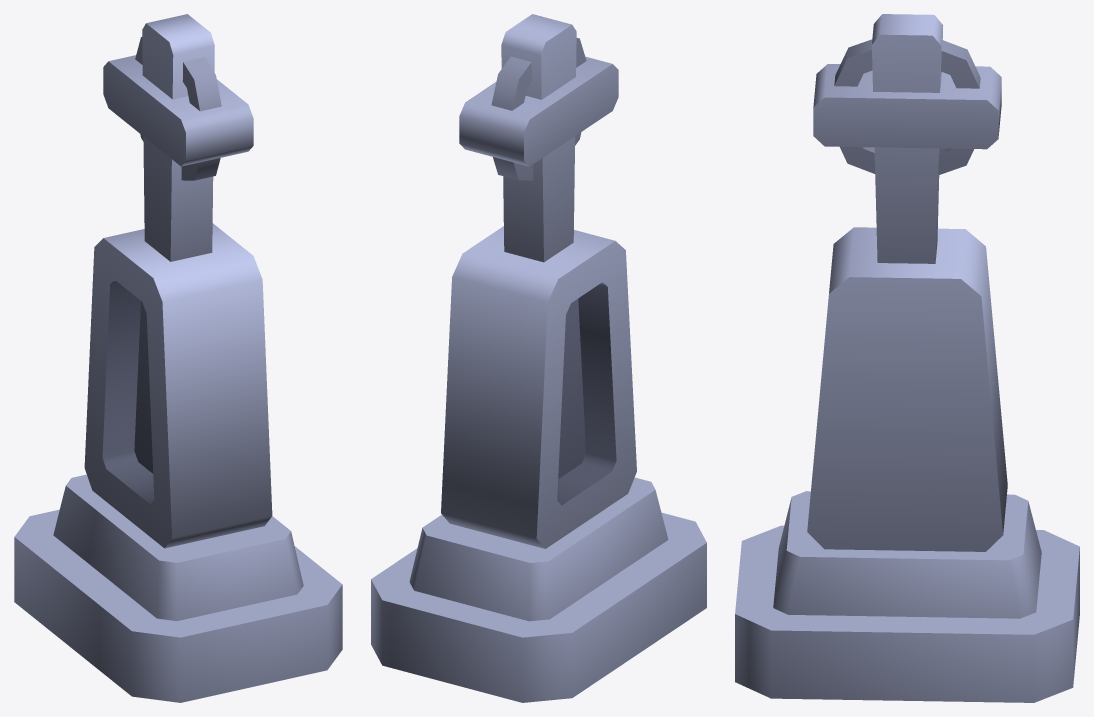
Rendered from gravestone-cross.048_lev2.glb.
3 renders of one model, left to right at view 1: azimuth 30°, elevation 25°; view 2: azimuth 150°, elevation 25°; view 3: azimuth 270°, elevation 25°, orthographic. The views are drawn at different scales.
Parts seen in each view (by area): view 1: gravestone-cross.048_lev2; view 2: gravestone-cross.048_lev2; view 3: gravestone-cross.048_lev2.
Part boxes in pixels (<box>): gravestone-cross.048_lev2: <box>14,14,342,702</box>; gravestone-cross.048_lev2: <box>371,14,706,702</box>; gravestone-cross.048_lev2: <box>735,14,1079,702</box>.
Bounding box in the file's own units: 3.43 × 9.15 × 4.59.
Materials: 1 (1 with a texture image).
